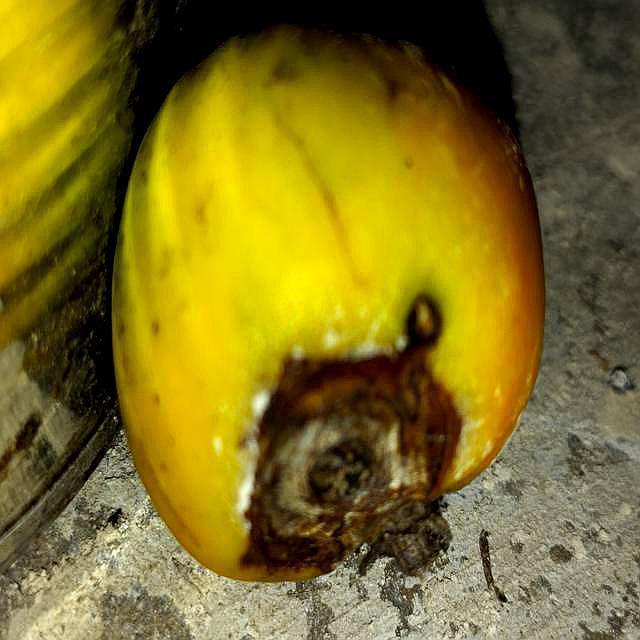Biodegradable: (115, 37, 547, 579)
